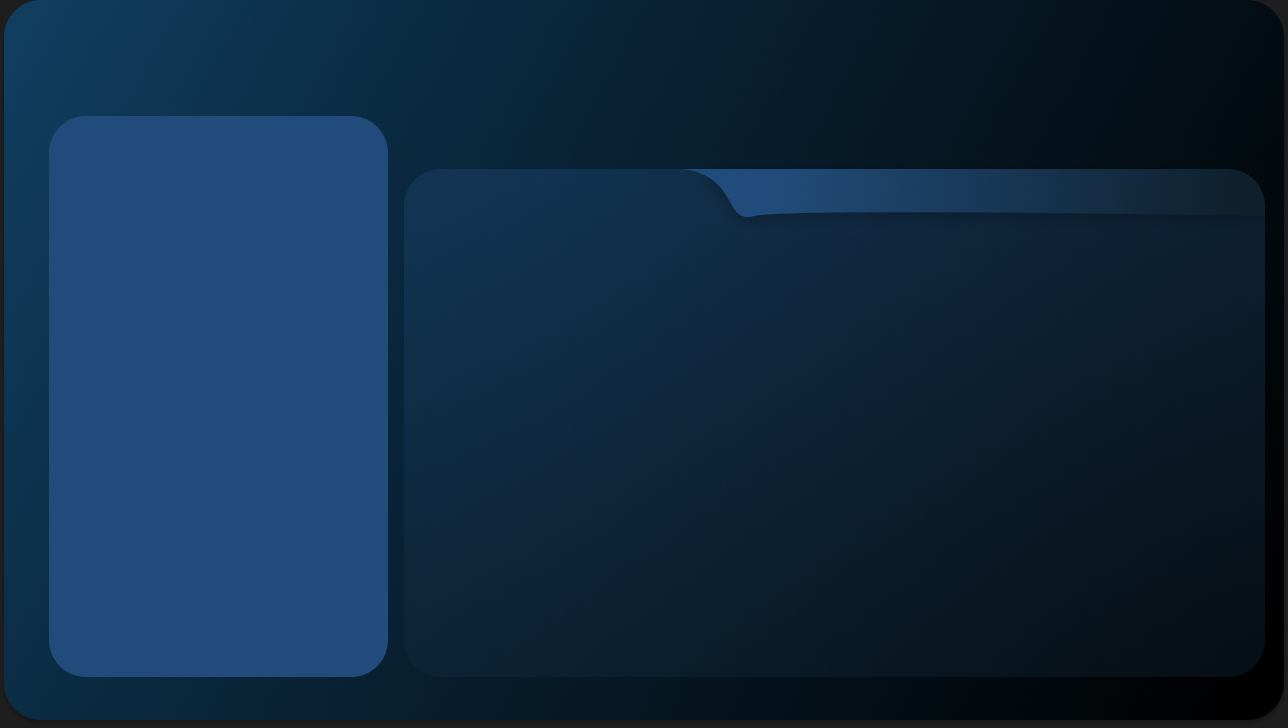

Layout of this report page (visuals, bound fields, positions):
{"tool":"powerbi","page":{"name":"Detail","canvas":[1280,720],"ordinal":2},"visuals":[{"type":"tableEx","fields":{"Values":["Dataset.TXN RANGE Previous Month","Dataset.ATM id"]},"box":[52.7,438,324.5,203],"z":0},{"type":"tableEx","fields":{"Values":["Dataset.MARGIN RANGE Current Month","Dataset.ATM id"]},"box":[52.7,209.4,324.5,209.4],"z":1000},{"type":"textbox","box":[52.7,123.1,324.5,86.3],"z":2000},{"type":"pivotTable","fields":{"Rows":["Dataset.Revenue Performance","Dataset.STATE","Dataset.ATM id"],"Values":["Avg(Dataset.Monthly Rev)","Avg(Dataset.AVG Total TXN)","Avg(Dataset.Monthly Txn)","Dataset.Gross Profit Percentage","Avg(Dataset.Up Time)"]},"box":[409.2,209.4,839.2,444.4],"z":3000},{"type":"cardVisual","fields":{"Data":["Sum(Dataset. Total Cost  )","Avg(Dataset.Monthly Txn)","Avg(Dataset.Monthly Rev)","Avg(Dataset.Up Time)","Dataset.Gross Profit Percentage"]},"box":[398,89.5,837.6,76.7],"z":4000},{"type":"pageNavigator","box":[935.9,17.8,310.1,49.4],"z":5000},{"type":"textbox","box":[43.9,67.2,340.3,38.4],"z":6000}]}

Visuals, with their boxes in screenshot pixels (x1, y1, x2, y2), scaled from the page's 1280x720 canvas onto the 1288x728 screenshot:
tableEx - Dataset.TXN RANGE Previous Month x Dataset.ATM id: Rect(53, 443, 380, 648)
tableEx - Dataset.MARGIN RANGE Current Month x Dataset.ATM id: Rect(53, 212, 380, 423)
textbox: Rect(53, 124, 380, 212)
pivotTable - Dataset.Revenue Performance x Dataset.STATE: Rect(412, 212, 1256, 661)
cardVisual - Sum(Dataset. Total Cost  ) x Avg(Dataset.Monthly Txn): Rect(400, 90, 1243, 168)
pageNavigator: Rect(942, 18, 1254, 68)
textbox: Rect(44, 68, 387, 107)
